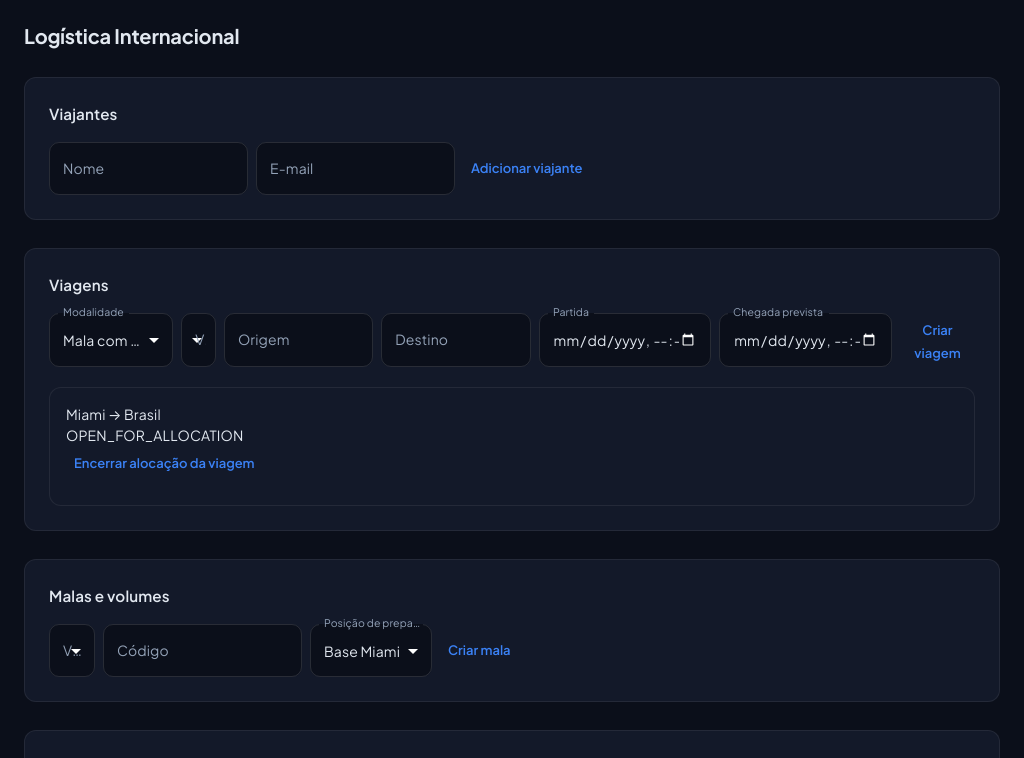
Test case: Logística — transições informadas pelo backend › troca de loja descarta a transição da viagem anterior
Click the button "Encerrar alocação da viagem".
click(164, 463)  # box [66,446,263,481]
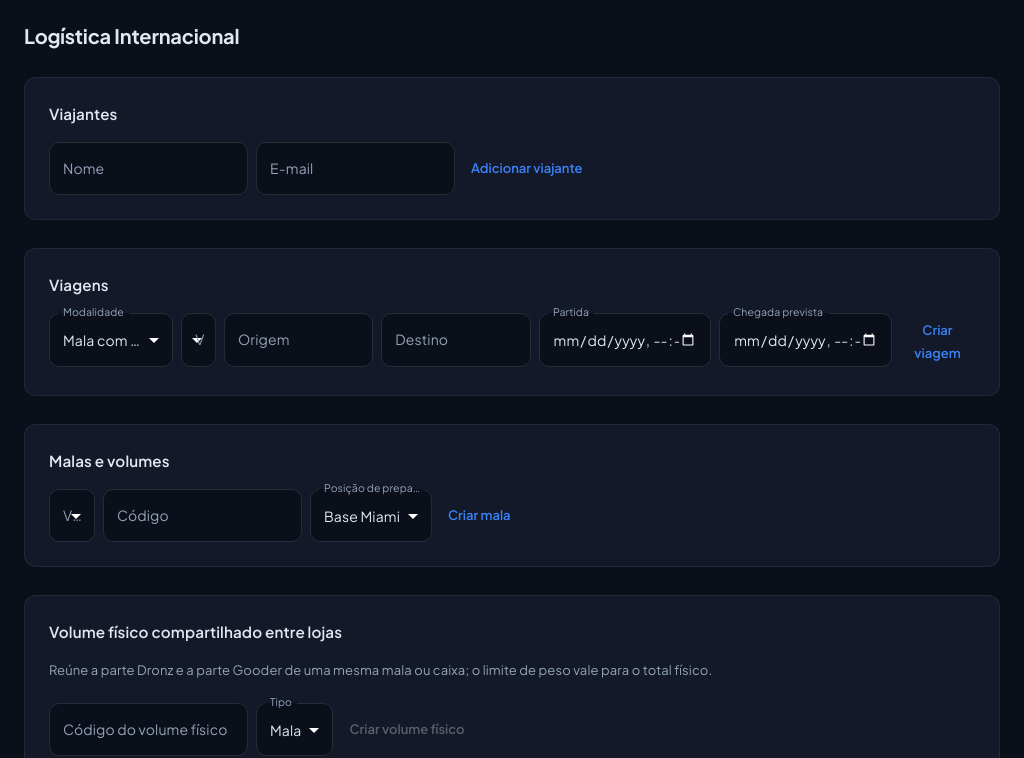
Expected: the button "Encerrar alocação da viagem" is gone
